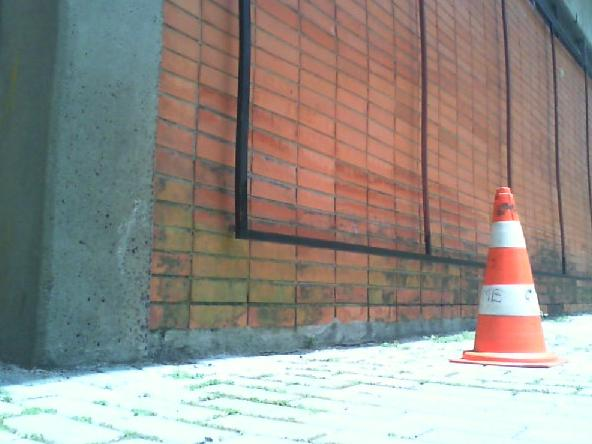0 cone: (448, 186, 567, 368)
